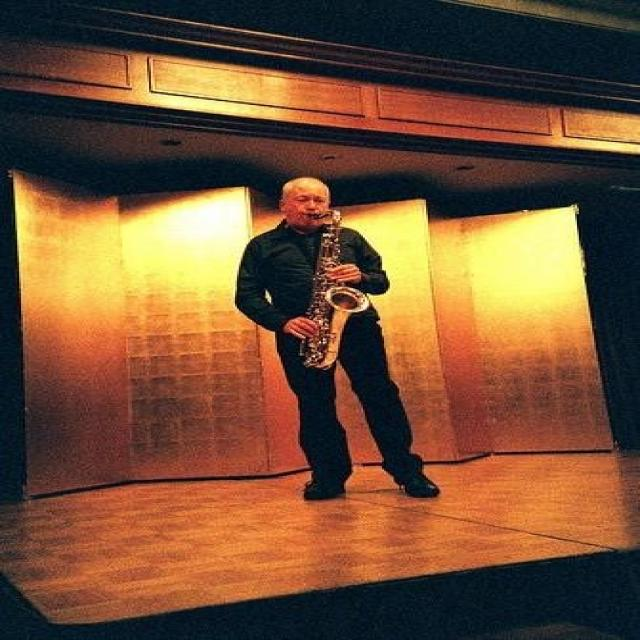saxophone: (296, 208, 370, 374)
